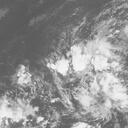cyclone: (35, 48, 106, 113)
